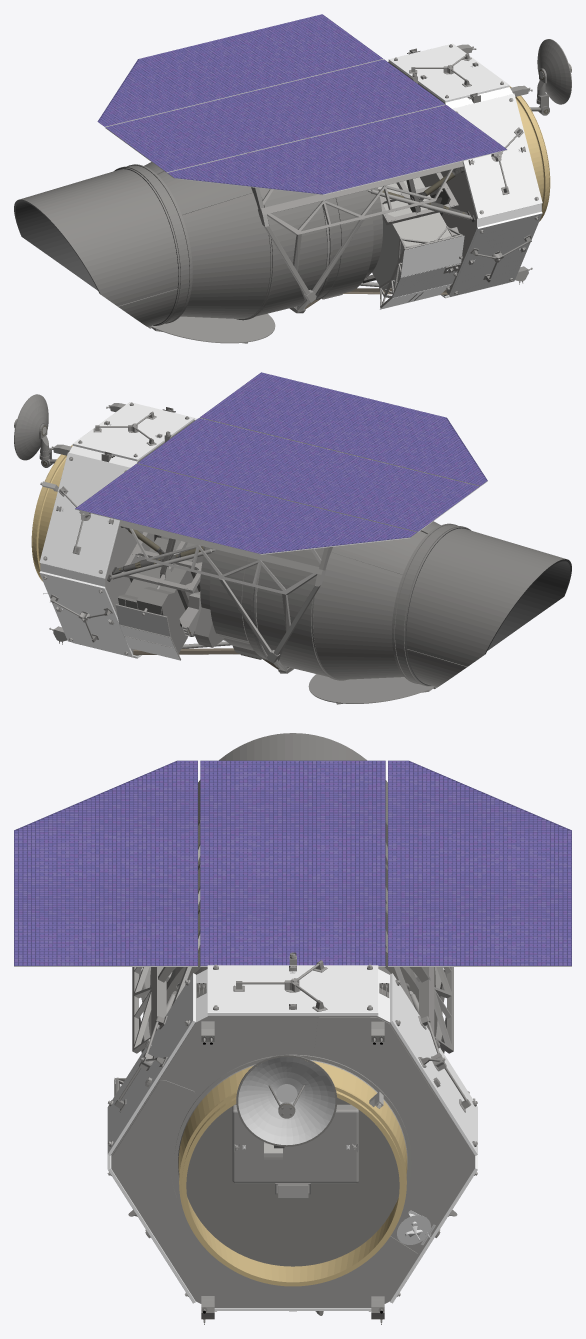
The model's file is roman.glb.
3 views of the same model, one above another, from view 1: azimuth 30°, elevation 25°; view 2: azimuth 150°, elevation 25°; view 3: azimuth 270°, elevation 25° (orthographic). The views are drawn at different scales.
Visible parts, largest first — view 1: afta2015-maintube; view 2: afta2015-maintube; view 3: afta2015-maintube.
Part boxes in pixels (x1,y1,x2,y2): afta2015-maintube: (14,14,571,343); afta2015-maintube: (14,372,571,704); afta2015-maintube: (14,733,571,1324).
Bounding box in the file's own units: 344 × 131 × 207.
